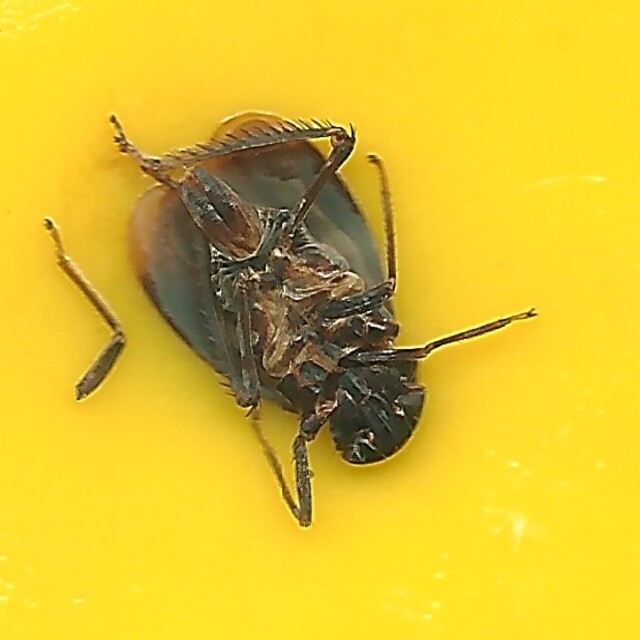Hemiptera: (103, 111, 537, 529)
